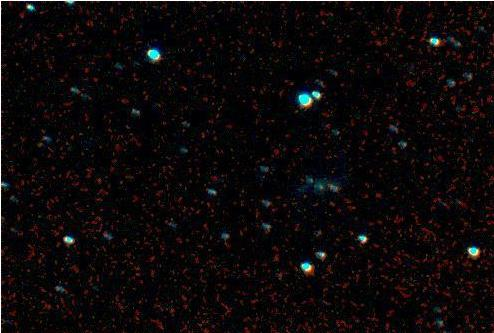star: (315, 169, 345, 199)
